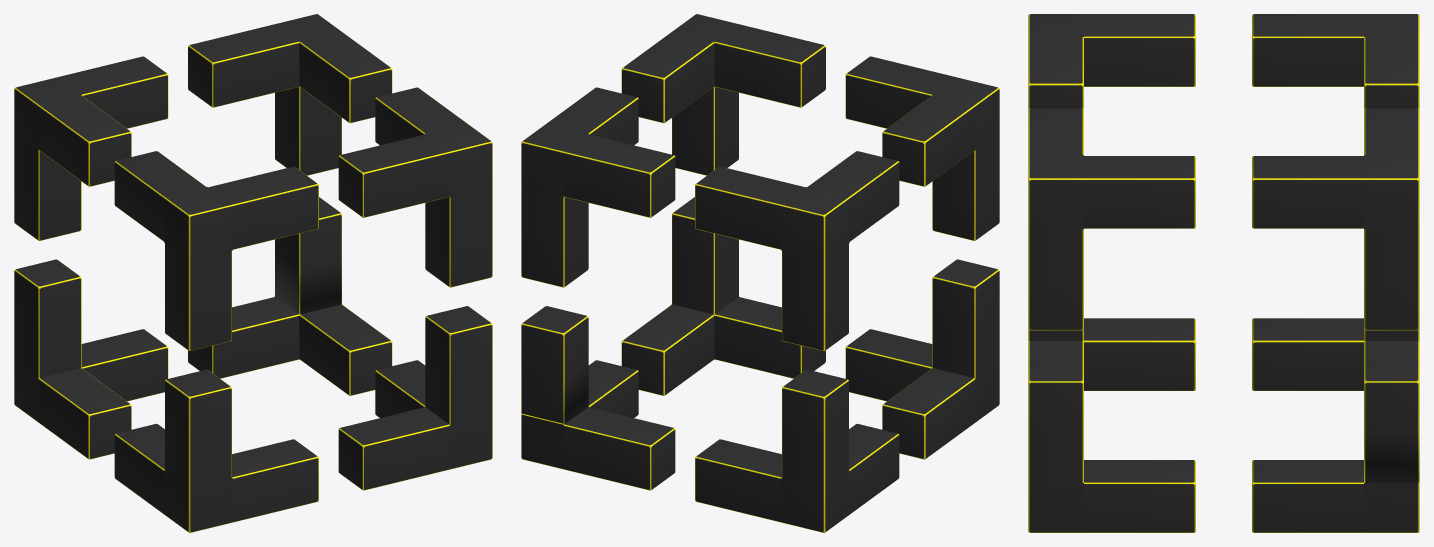
Rendered from impossiblebox.fbx.
The picture shows the model from 3 angles, left to right: view 1: azimuth 30°, elevation 25°; view 2: azimuth 150°, elevation 25°; view 3: azimuth 270°, elevation 25°; orthographic projection. The views are drawn at different scales.
Parts seen in each view (by area): view 1: Box045; view 2: Box045; view 3: Box045.
Boxes of the visible parts, <box> form: Box045: <box>14,14,492,532</box>; Box045: <box>521,14,999,532</box>; Box045: <box>1028,14,1419,532</box>.
Bounding box in the file's own units: 191 × 191 × 191.
